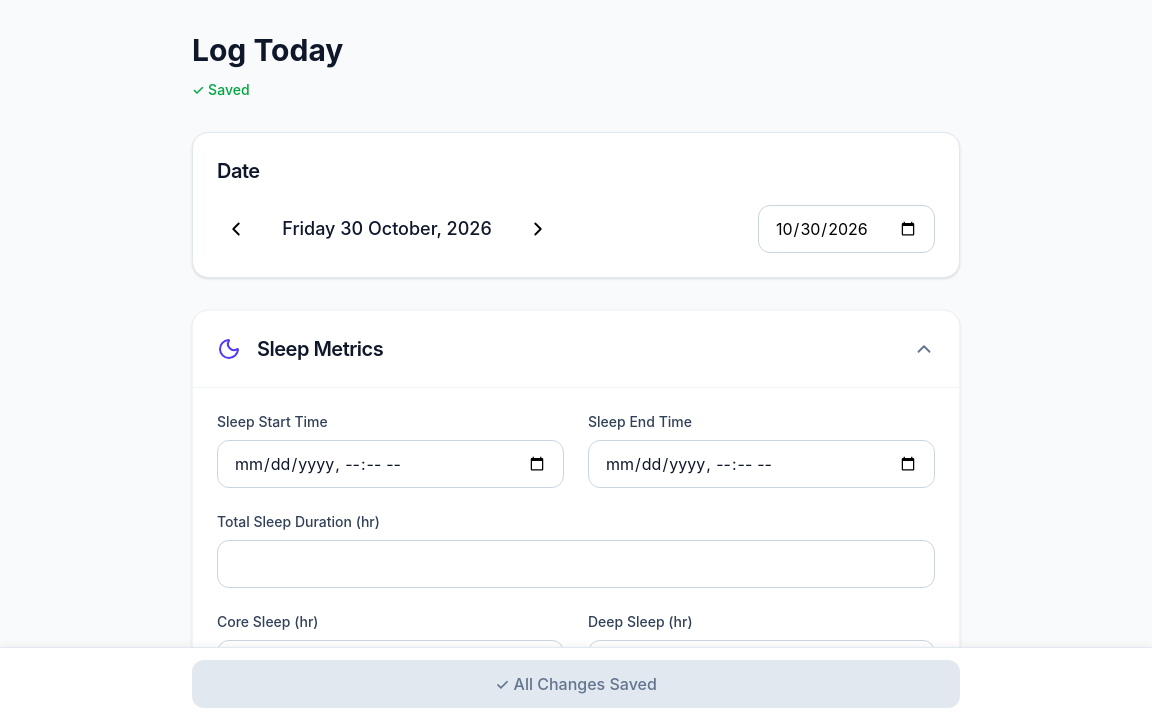
LogSleepMetrics › marks page dirty when Sleep Metrics change
Type "8" into the number field labelled "Total Sleep Duration (hr)" at (576,564), box [217,540,935,588]
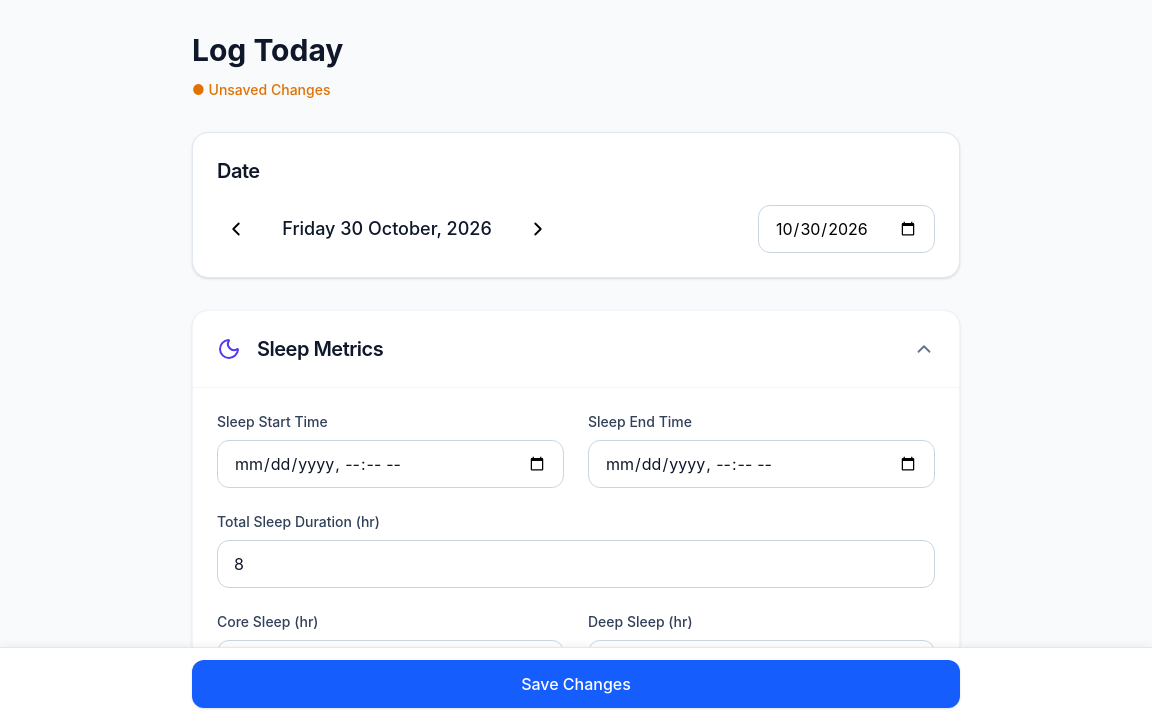
Now the text "● Unsaved Changes" is shown, box [192,80,330,100]
